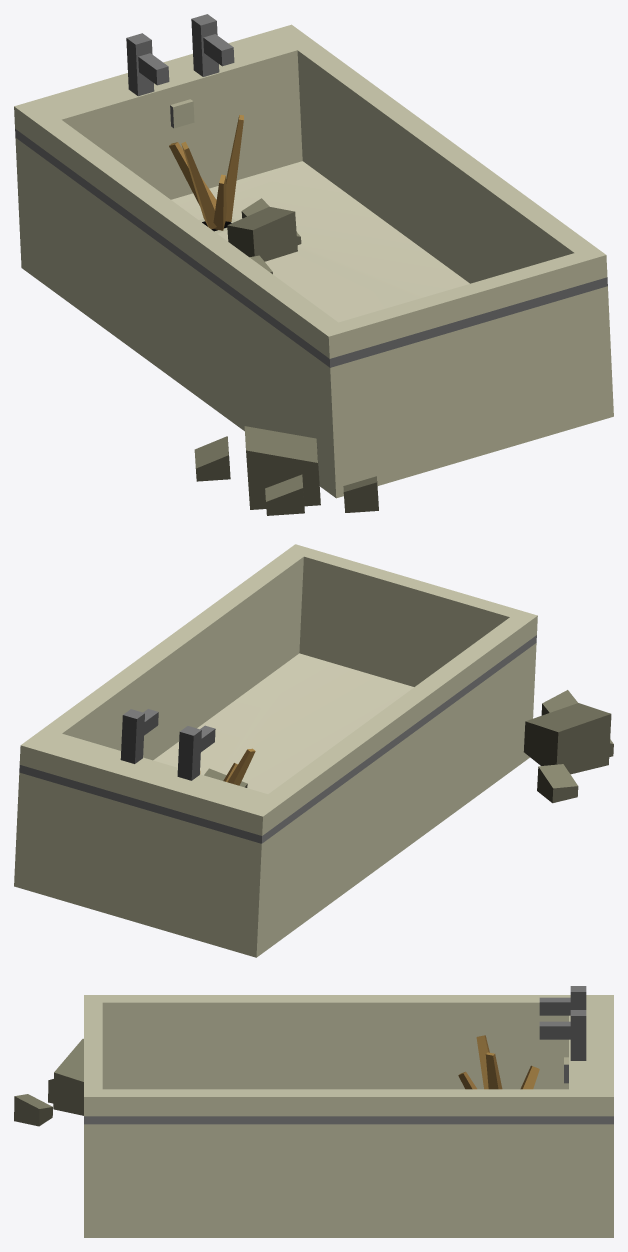
File: SA_Prop_BathTub_01.glb
3 views of the same model, one above another, from view 1: azimuth 30°, elevation 25°; view 2: azimuth 150°, elevation 25°; view 3: azimuth 270°, elevation 25° (orthographic). The views are drawn at different scales.
Parts seen in each view (by area): view 1: SA_Prop_BathTub_01; view 2: SA_Prop_BathTub_01; view 3: SA_Prop_BathTub_01.
Boxes of the visible parts, bbox=[...] form: SA_Prop_BathTub_01: bbox=[14, 14, 613, 515]; SA_Prop_BathTub_01: bbox=[14, 544, 613, 957]; SA_Prop_BathTub_01: bbox=[14, 986, 613, 1237].
Size of the model in its own units: 0.9627 by 0.5513 by 1.59.
1 material, 1 textured.
